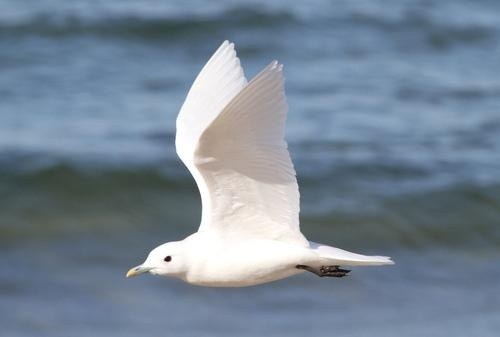bird: (119, 38, 395, 297)
